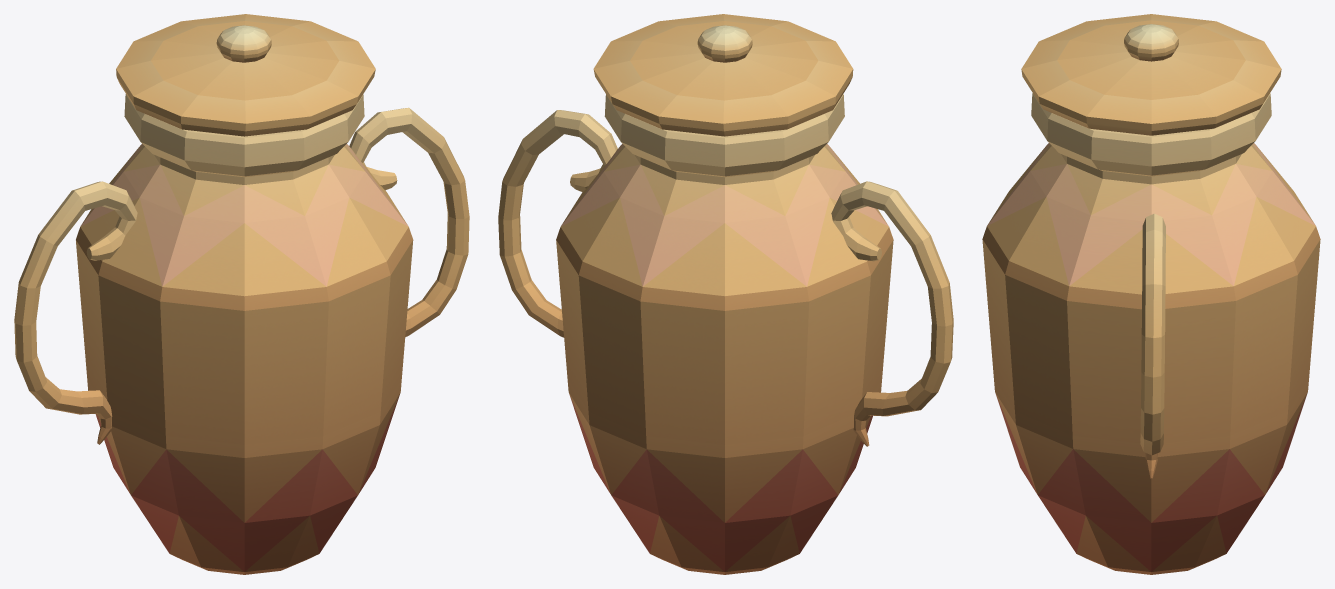
File: Jarro.fbx
The picture shows the model from 3 angles, left to right: view 1: azimuth 30°, elevation 25°; view 2: azimuth 150°, elevation 25°; view 3: azimuth 270°, elevation 25°; orthographic projection.
Visible parts, largest first — view 1: Jarro; view 2: Jarro; view 3: Jarro.
Boxes of the visible parts, bbox=[...] form: Jarro: bbox=[14, 14, 469, 574]; Jarro: bbox=[498, 14, 953, 574]; Jarro: bbox=[982, 14, 1320, 574].
Bounding box in the file's own units: 310 × 337 × 200.
